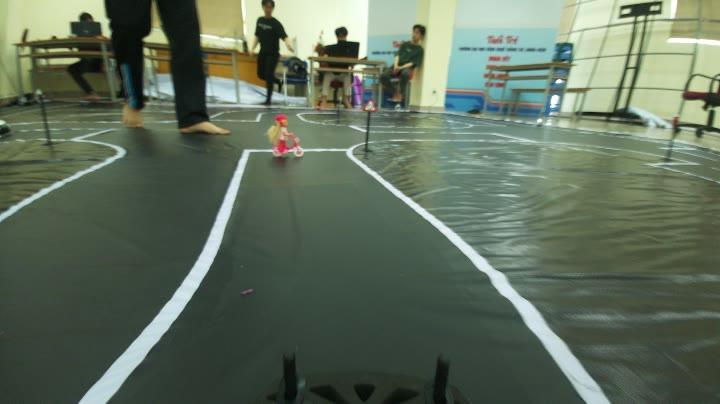pedestrian: (264, 116, 306, 164)
